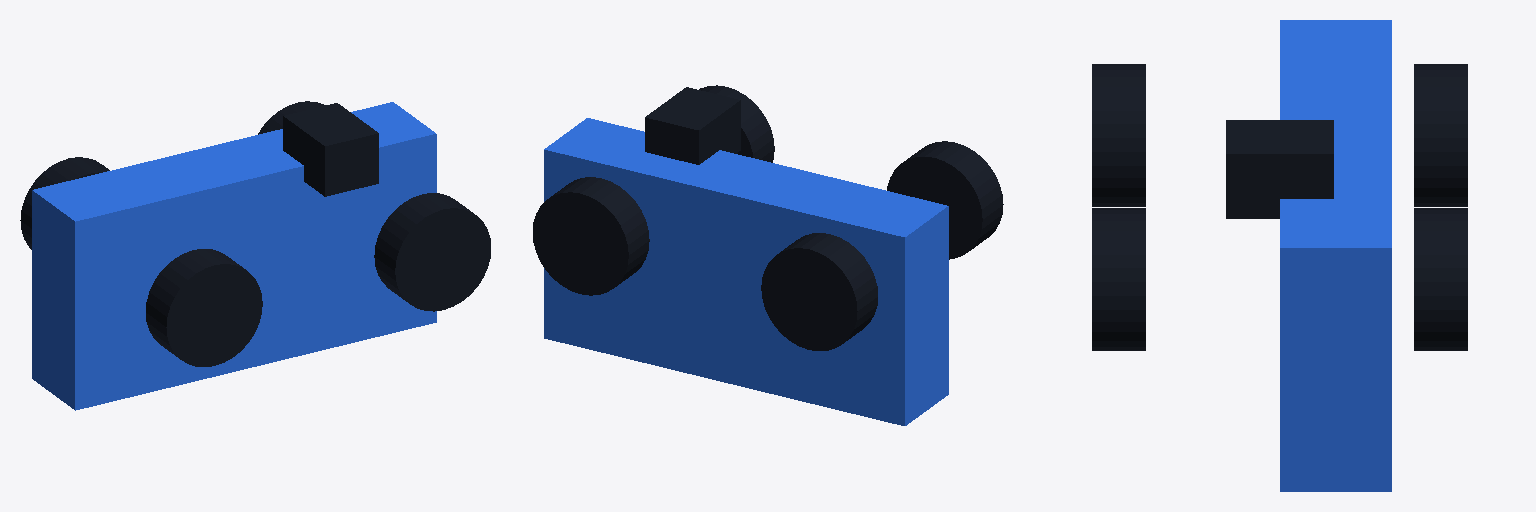
URDF robot description (asset_server_demo_robot):
<?xml version="1.0"?>
<robot name="asset_server_demo_robot">
  <material name="foxglove_blue">
    <color rgba="0.235 0.502 0.957 1.0"/>
  </material>
  <material name="dark_gray">
    <color rgba="0.12 0.14 0.18 1.0"/>
  </material>

  <link name="base_link">
    <visual name="body">
      <geometry>
        <mesh filename="package://demo_robot/meshes/body.obj"/>
      </geometry>
      <material name="foxglove_blue"/>
    </visual>

    <visual name="camera">
      <origin xyz="0.25 0 0.33"/>
      <geometry>
        <box size="0.18 0.24 0.16"/>
      </geometry>
      <material name="dark_gray"/>
    </visual>

    <visual name="front_left_wheel">
      <origin xyz="0.38 -0.36 0.12" rpy="1.5708 0 0"/>
      <geometry>
        <cylinder radius="0.16" length="0.12"/>
      </geometry>
      <material name="dark_gray"/>
    </visual>

    <visual name="front_right_wheel">
      <origin xyz="0.38 0.36 0.12" rpy="1.5708 0 0"/>
      <geometry>
        <cylinder radius="0.16" length="0.12"/>
      </geometry>
      <material name="dark_gray"/>
    </visual>

    <visual name="rear_left_wheel">
      <origin xyz="-0.38 -0.36 0.12" rpy="1.5708 0 0"/>
      <geometry>
        <cylinder radius="0.16" length="0.12"/>
      </geometry>
      <material name="dark_gray"/>
    </visual>

    <visual name="rear_right_wheel">
      <origin xyz="-0.38 0.36 0.12" rpy="1.5708 0 0"/>
      <geometry>
        <cylinder radius="0.16" length="0.12"/>
      </geometry>
      <material name="dark_gray"/>
    </visual>
  </link>
</robot>

--- What the picture shows (computed from the rendered views, not written in the file) ---
3 views of the same robot in one strip: view 1: azimuth 30°, elevation 25°; view 2: azimuth 150°, elevation 25°; view 3: azimuth 270°, elevation 25° (orthographic).
Model asset_server_demo_robot with 1 links and 0 joints (none), rooted at base_link, posed every joint at zero.
Visible links, largest first — view 1: base_link; view 2: base_link; view 3: base_link.
Link boxes in pixels (x1,y1,x2,y2): base_link: (20, 101, 490, 410); base_link: (533, 85, 1003, 425); base_link: (1092, 20, 1467, 491).
Size in the robot's own frame: 1.2 by 0.84 by 0.71 metres.
1 mesh visuals loaded from 1 distinct referenced files (1 OBJ).
